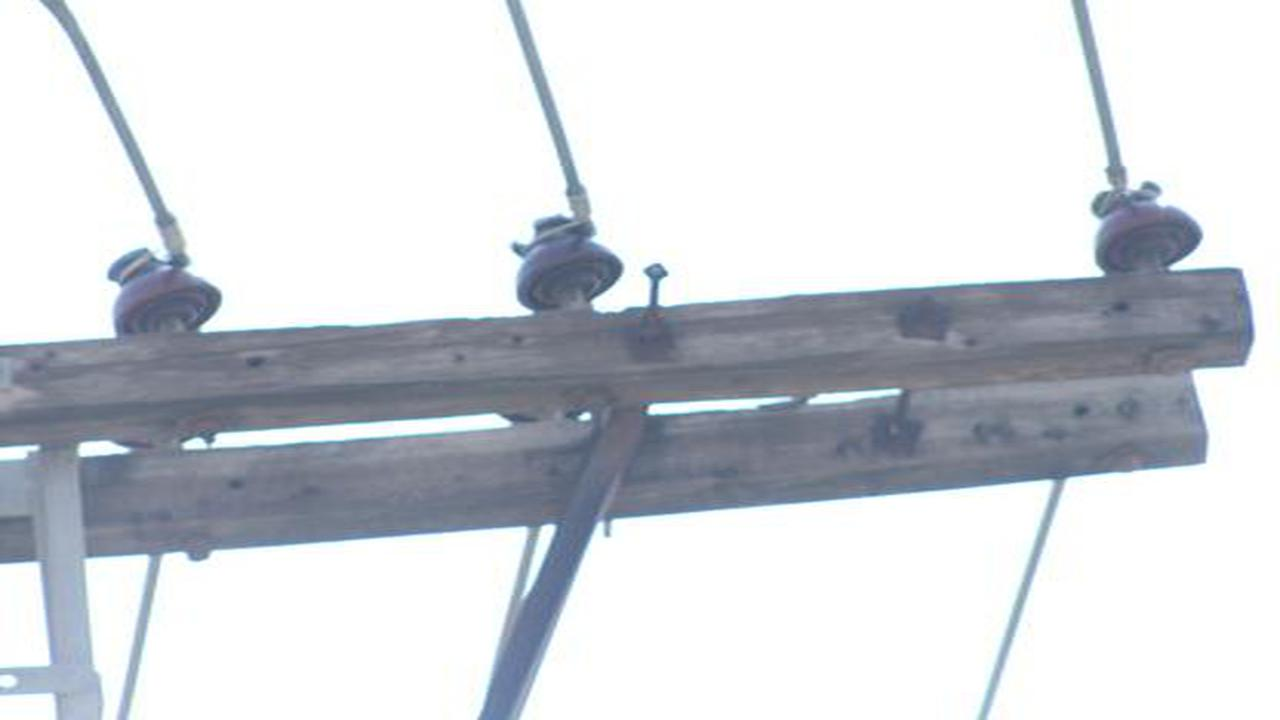insulator_pin: (500, 203, 632, 313), (96, 238, 228, 342), (1085, 177, 1212, 276)
